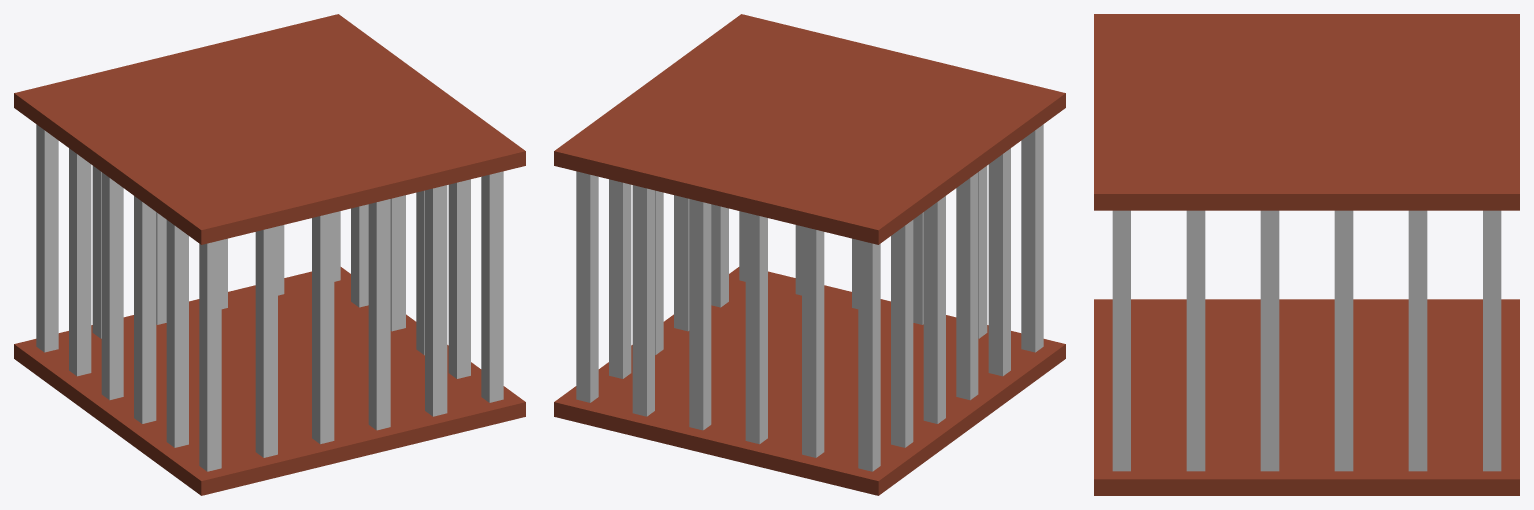
File: Cage.obj
3 renders of one model, left to right at view 1: azimuth 30°, elevation 25°; view 2: azimuth 150°, elevation 25°; view 3: azimuth 270°, elevation 25°, orthographic. The views are drawn at different scales.
Size of the model in its own units: 4.6 by 3.6 by 4.6.
1 material, 1 textured.
